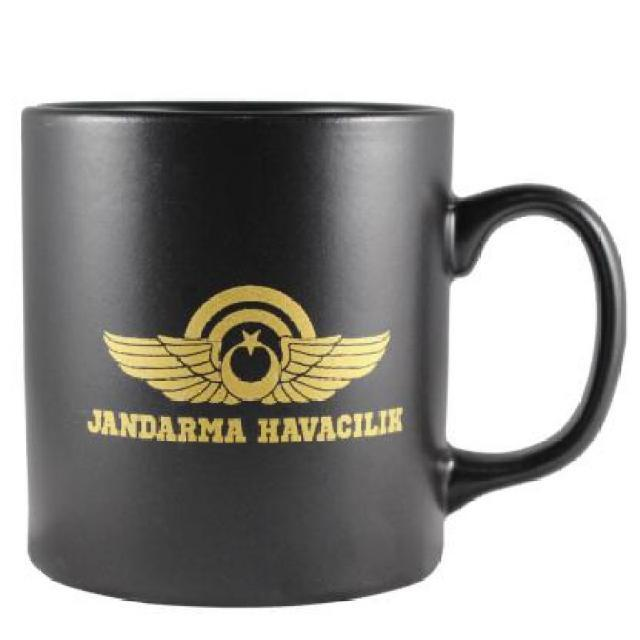taza: (20, 94, 628, 608)
